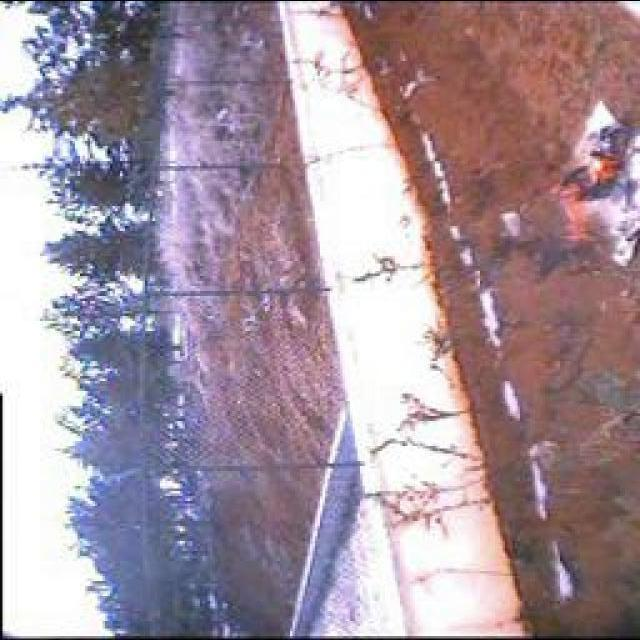Fire: (546, 125, 628, 243)
